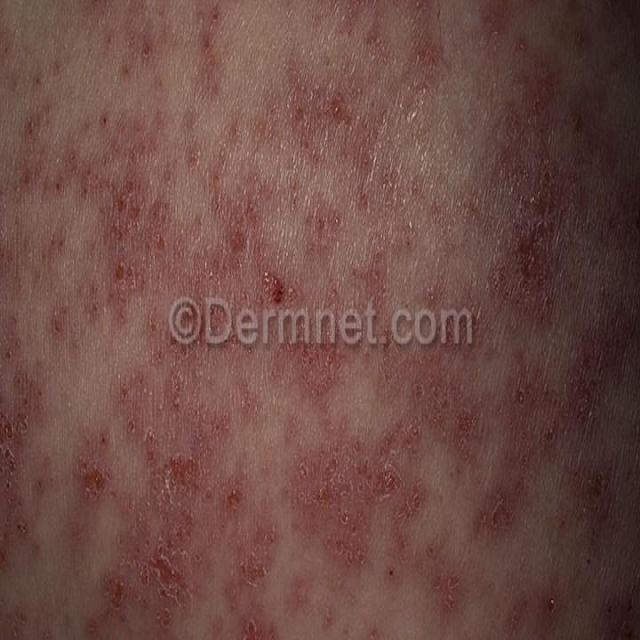Eczema: (13, 6, 633, 640)
